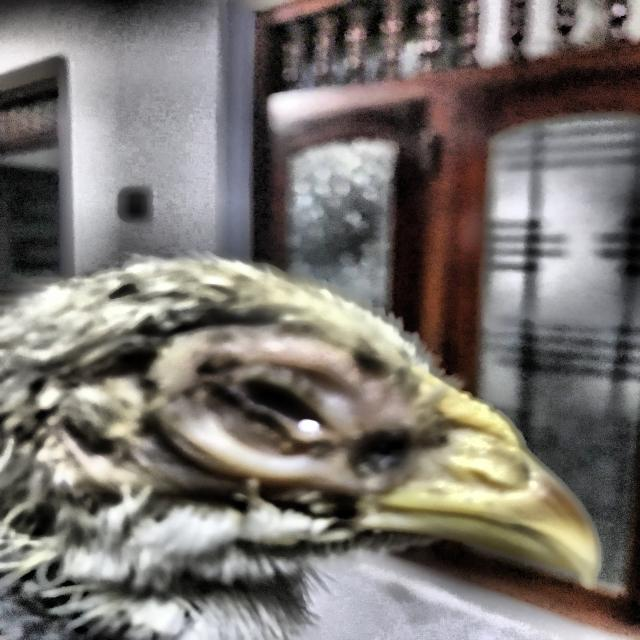Coryza: (39, 202, 619, 614)
